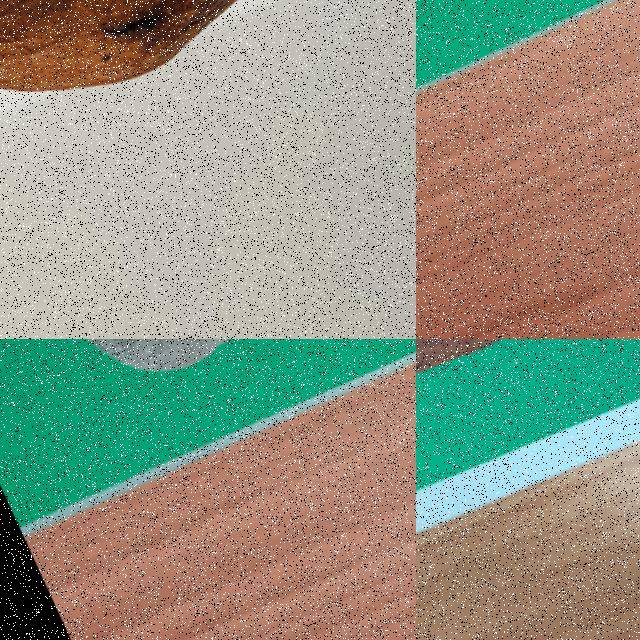Agglomerated_cocoabeans: (0, 339, 415, 466)
Fine_cocoabeans: (0, 0, 415, 189)
Flat_cocoabeans: (416, 339, 639, 507)
